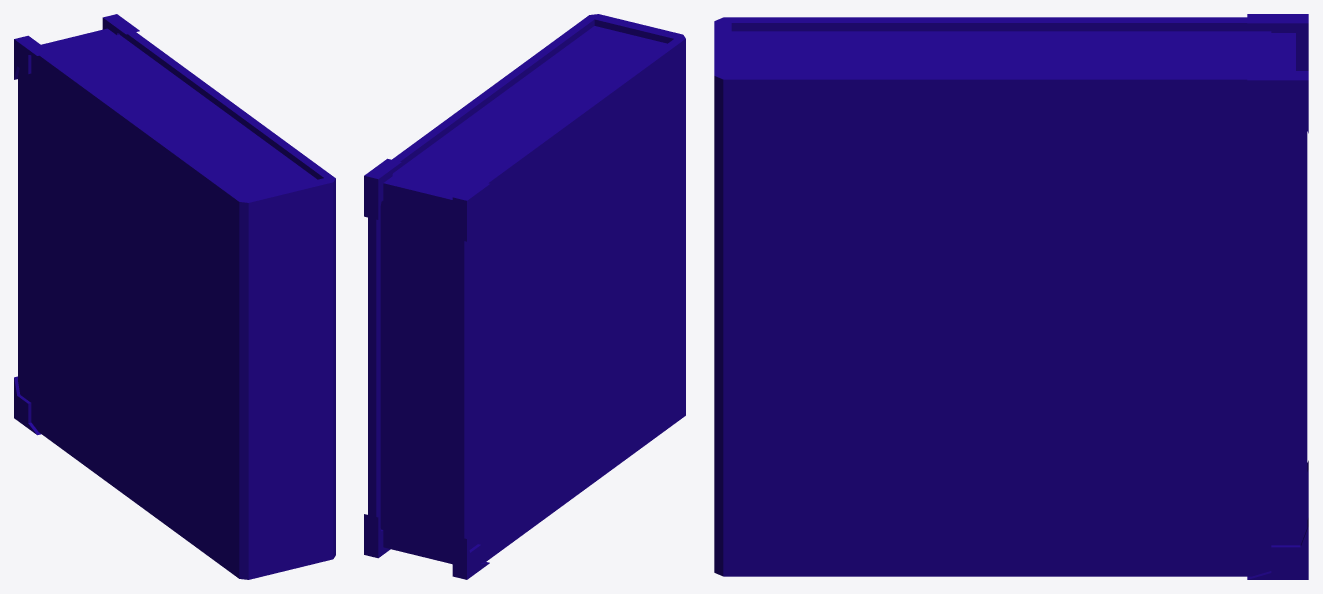
File: CG_Model_TownInt_Book8_Mar24_ChrisMcknight.FBX
3 renders of one model, left to right at view 1: azimuth 30°, elevation 25°; view 2: azimuth 150°, elevation 25°; view 3: azimuth 270°, elevation 25°, orthographic. The views are drawn at different scales.
Parts seen in each view (by area): view 1: Book8; view 2: Book8; view 3: Book8.
Boxes of the visible parts, x1,y1,x2,y2 form: Book8: [14, 14, 335, 579]; Book8: [364, 14, 685, 579]; Book8: [714, 14, 1308, 579].
Bounding box in the file's own units: 1.6 × 5.63 × 6.07.
